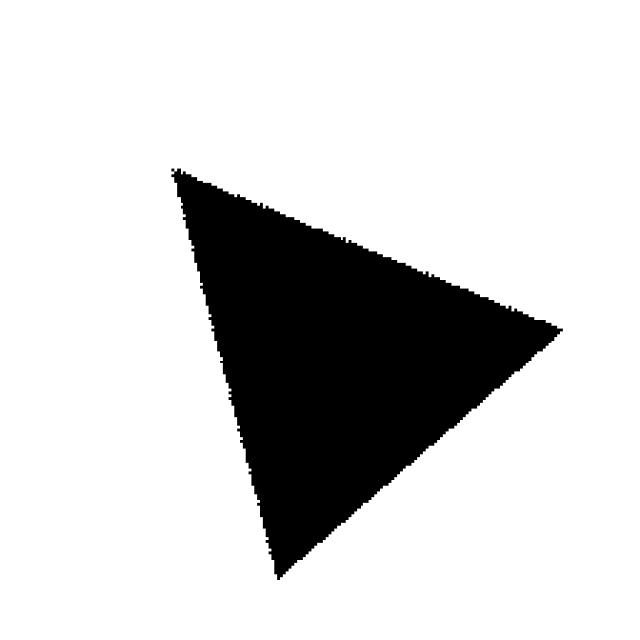Triangle: (152, 150, 578, 596)
